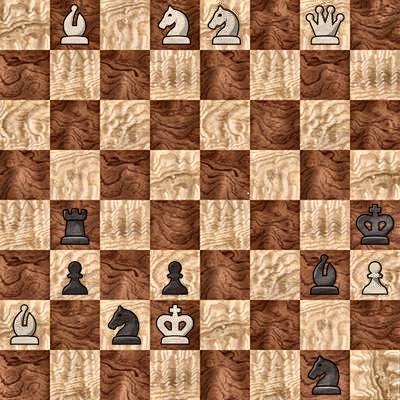black-bishop: (300, 250, 350, 300)
black-king: (350, 200, 400, 250)
black-knight: (100, 300, 150, 350), (300, 350, 350, 400)
black-pawn: (50, 250, 100, 300), (150, 250, 200, 300)
black-rook: (50, 200, 100, 250)
white-bishop: (50, 0, 100, 50), (0, 300, 50, 350)
white-king: (150, 300, 200, 350)
white-knight: (150, 0, 200, 50), (200, 0, 250, 50)
white-pawn: (350, 250, 400, 300)
white-queen: (300, 0, 350, 50)
